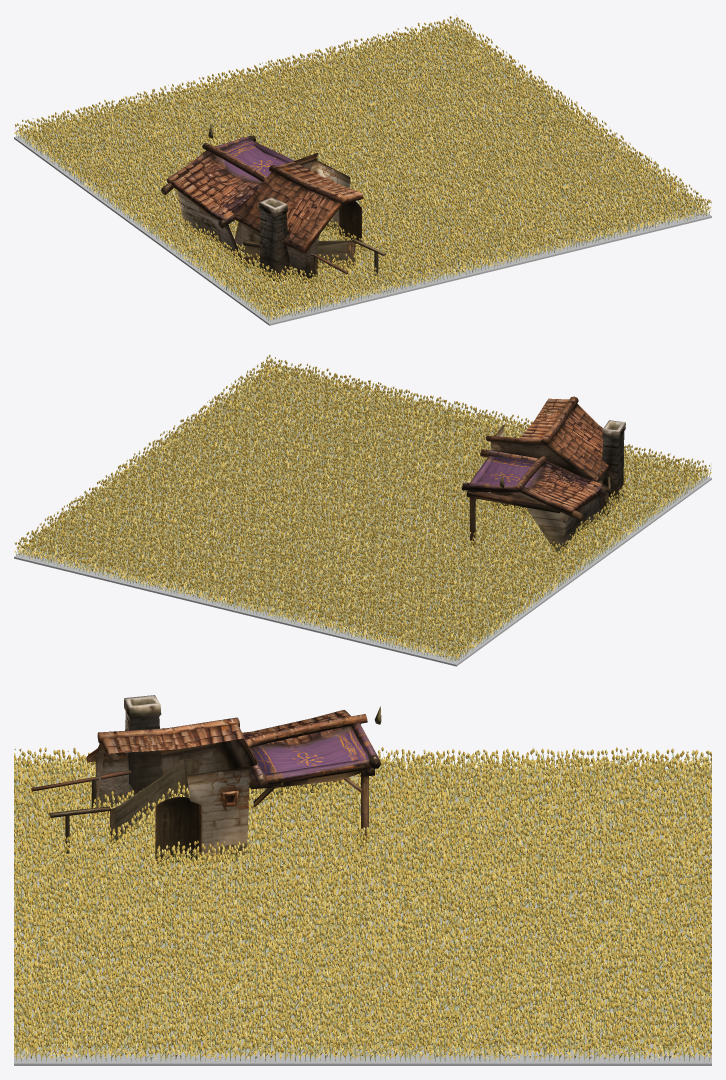
The model's file is Pasture14_GoldenCorner.fbx.
3 views of the same model, one above another, from view 1: azimuth 30°, elevation 25°; view 2: azimuth 150°, elevation 25°; view 3: azimuth 270°, elevation 25° (orthographic). The views are drawn at different scales.
Parts seen in each view (by area): view 1: Pasture14GoldenCorner_crop_completion, Pasture14GoldenCorner_crop, Pasture14GoldenCorner_ground, Pasture14GoldenCorner_architecture; view 2: Pasture14GoldenCorner_crop_completion, Pasture14GoldenCorner_crop, Pasture14GoldenCorner_ground, Pasture14GoldenCorner_architecture; view 3: Pasture14GoldenCorner_crop_completion, Pasture14GoldenCorner_crop, Pasture14GoldenCorner_ground, Pasture14GoldenCorner_architecture.
Part boxes in pixels (bbox=[...]): Pasture14GoldenCorner_crop_completion: bbox=[14, 14, 711, 321]; Pasture14GoldenCorner_crop: bbox=[182, 50, 588, 236]; Pasture14GoldenCorner_ground: bbox=[14, 30, 711, 325]; Pasture14GoldenCorner_architecture: bbox=[161, 125, 385, 282]; Pasture14GoldenCorner_crop_completion: bbox=[14, 354, 711, 661]; Pasture14GoldenCorner_crop: bbox=[99, 415, 484, 607]; Pasture14GoldenCorner_ground: bbox=[14, 371, 711, 666]; Pasture14GoldenCorner_architecture: bbox=[462, 396, 625, 554]; Pasture14GoldenCorner_crop_completion: bbox=[14, 747, 711, 1061]; Pasture14GoldenCorner_crop: bbox=[180, 839, 646, 1021]; Pasture14GoldenCorner_ground: bbox=[14, 768, 711, 1065]; Pasture14GoldenCorner_architecture: bbox=[31, 695, 381, 864].
Bounding box in the file's own units: 14 × 2.58 × 14.
